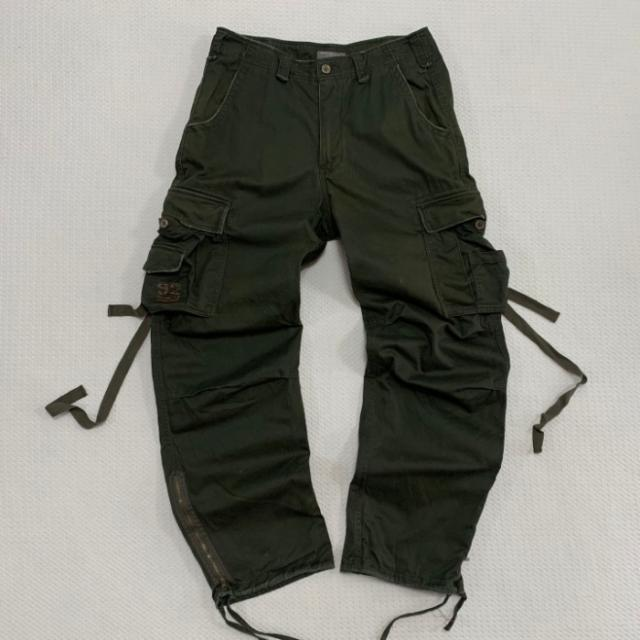pants: (137, 22, 518, 608)
